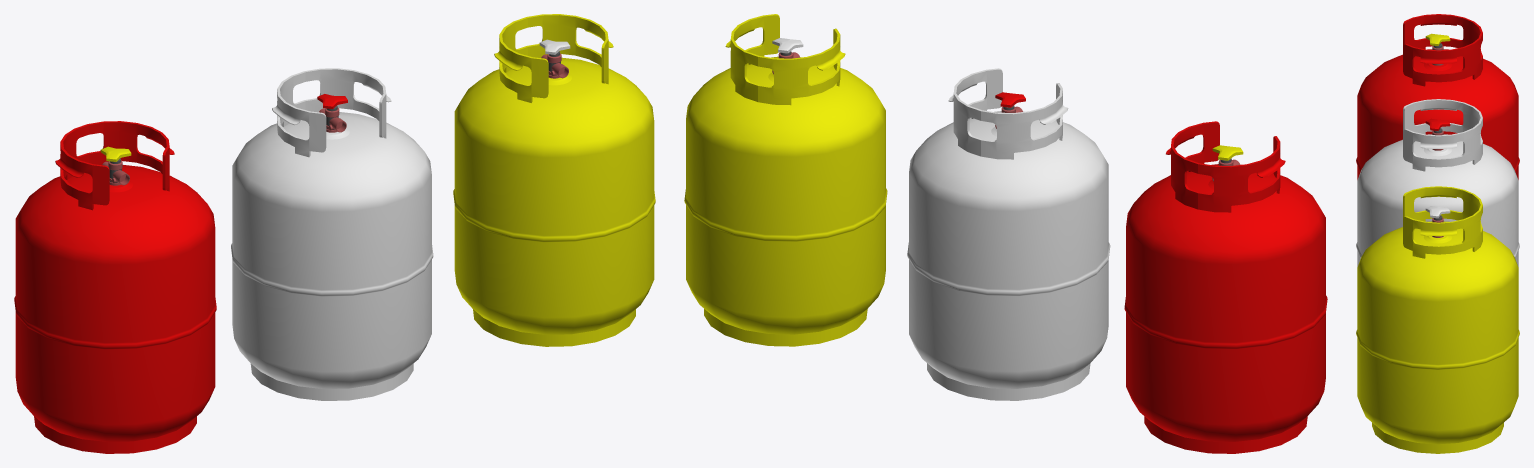
Rendered from Propane Tanks.fbx.
The picture shows the model from 3 angles, left to right: view 1: azimuth 30°, elevation 25°; view 2: azimuth 150°, elevation 25°; view 3: azimuth 270°, elevation 25°; orthographic projection. The views are drawn at different scales.
Parts seen in each view (by area): view 1: pSphere1 (×3), pCylinder2 (×3), pCylinder1 (×3); view 2: pSphere1 (×3), pCylinder2 (×3), pCylinder1 (×3); view 3: pSphere1 (×3), pCylinder2 (×3), pCylinder1, pCylinder5 (×3).
Boxes of the visible parts, x1=… form: pSphere1 (×3): x1=14, y1=51, x2=655, y2=441; pCylinder2 (×3): x1=55, y1=14, x2=613, y2=210; pCylinder1 (×3): x1=34, y1=309, x2=635, y2=453; pSphere1 (×3): x1=684, y1=51, x2=1327, y2=441; pCylinder2 (×3): x1=725, y1=14, x2=1285, y2=212; pCylinder1 (×3): x1=704, y1=309, x2=1307, y2=453; pSphere1 (×3): x1=1356, y1=43, x2=1519, y2=444; pCylinder2 (×3): x1=1403, y1=14, x2=1482, y2=258; pCylinder1: x1=1372, y1=422, x2=1503, y2=453; pCylinder5 (×3): x1=1425, y1=33, x2=1450, y2=218.
Bounding box in the file's own units: 41.8 × 17.85 × 11.98.
